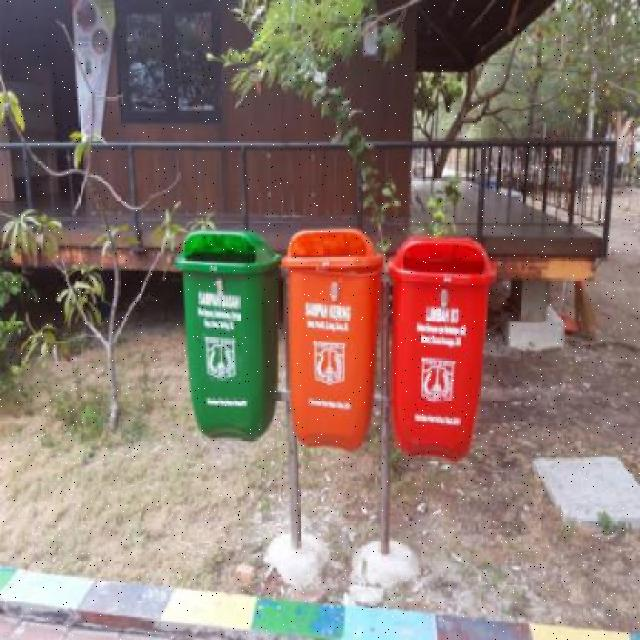garbage container: (384, 223, 499, 482), (278, 217, 389, 463), (170, 224, 282, 442)
